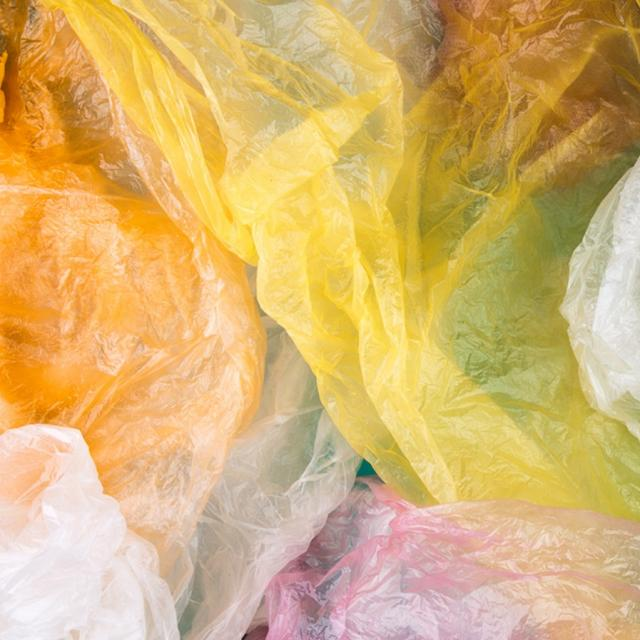Single-layer Plastic: (44, 0, 640, 518), (0, 0, 265, 572), (166, 319, 361, 640), (265, 480, 640, 640), (0, 425, 179, 639), (560, 158, 640, 439)
